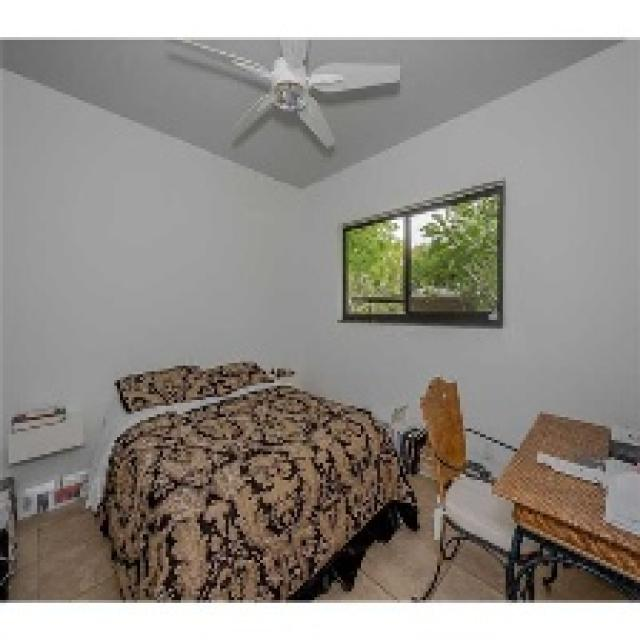Bed: (92, 360, 417, 600)
